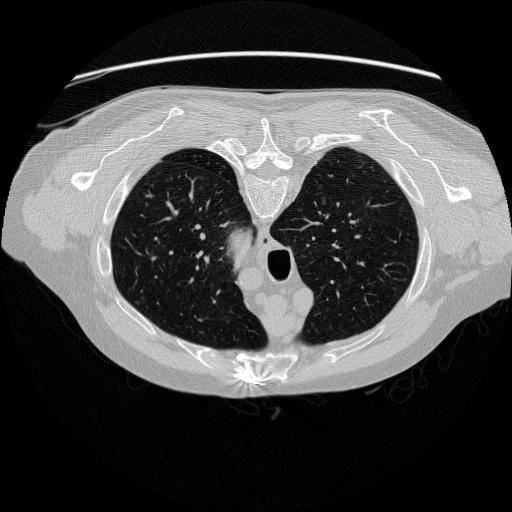nodule: (320, 196, 331, 207)
